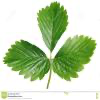Strawberry leaf: (51, 34, 98, 85), (2, 38, 50, 81), (36, 1, 69, 51)
